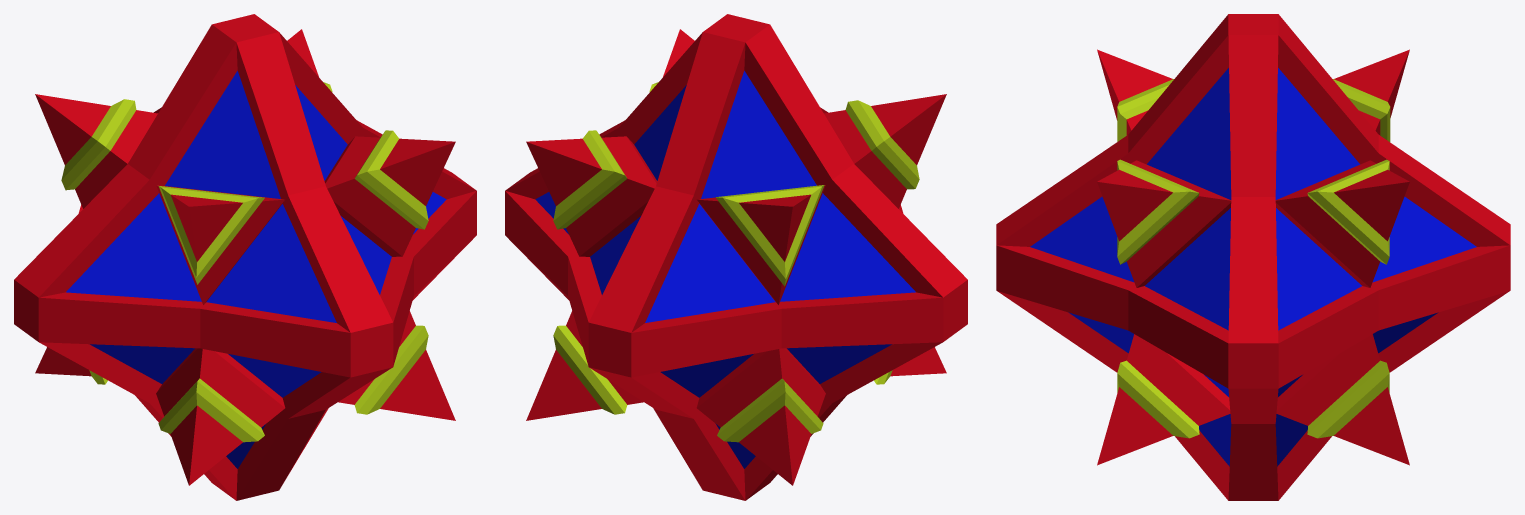
Rendered from VoX Octahedral.fbx.
3 views of the same model, side by side, from view 1: azimuth 30°, elevation 25°; view 2: azimuth 150°, elevation 25°; view 3: azimuth 270°, elevation 25° (orthographic).
Visible parts, largest first — view 1: Cube.001; view 2: Cube.001; view 3: Cube.001.
Boxes of the visible parts, x1=… form: Cube.001: x1=14, y1=14, x2=476, y2=500; Cube.001: x1=505, y1=14, x2=967, y2=500; Cube.001: x1=996, y1=14, x2=1510, y2=500.
Bounding box in the file's own units: 582 × 582 × 582.
